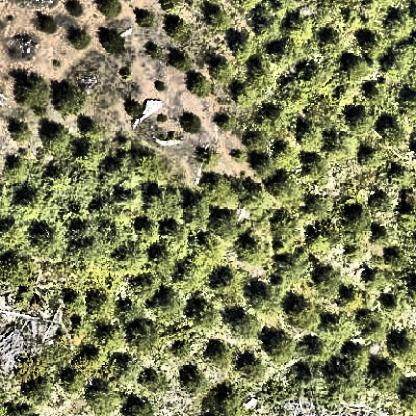tree-top: (282, 63, 336, 116), (111, 148, 164, 186), (147, 188, 188, 227), (1, 255, 41, 294), (335, 203, 374, 242), (174, 360, 214, 398), (5, 153, 48, 188), (83, 381, 124, 415), (190, 238, 228, 274), (73, 224, 109, 261), (15, 74, 51, 110), (274, 171, 309, 208), (35, 225, 70, 262), (26, 372, 60, 410), (55, 83, 91, 118), (341, 343, 375, 378), (287, 298, 322, 331), (219, 265, 252, 300), (209, 389, 253, 415), (265, 331, 298, 365), (239, 237, 274, 269), (385, 58, 416, 94), (297, 124, 331, 156), (128, 319, 162, 351), (279, 253, 311, 287), (305, 155, 336, 190), (86, 292, 118, 325), (270, 141, 303, 173), (121, 245, 154, 277), (1, 220, 32, 254), (297, 332, 329, 364), (383, 10, 416, 41), (375, 366, 408, 397), (42, 123, 72, 157), (232, 79, 264, 110), (238, 352, 269, 384), (201, 172, 232, 203), (319, 28, 349, 60), (188, 302, 226, 327), (286, 12, 316, 43), (45, 167, 76, 197), (112, 186, 146, 213), (151, 42, 187, 67), (96, 325, 127, 354), (384, 251, 415, 280), (178, 109, 206, 141), (254, 286, 282, 318), (232, 30, 260, 61), (73, 139, 105, 166), (116, 357, 145, 386), (349, 107, 377, 137), (307, 193, 337, 221), (298, 365, 328, 393), (261, 107, 292, 134), (393, 327, 416, 363), (257, 16, 286, 44), (253, 56, 279, 87), (246, 127, 274, 155), (103, 28, 129, 58), (319, 269, 345, 299), (385, 117, 410, 148), (166, 17, 194, 44), (101, 28, 128, 56), (205, 8, 232, 36), (212, 57, 239, 85), (142, 371, 170, 398), (363, 1, 395, 24), (326, 313, 353, 340), (209, 341, 235, 369), (347, 56, 373, 82), (188, 71, 214, 97), (81, 346, 107, 372), (235, 312, 260, 339), (64, 369, 88, 396), (68, 28, 93, 53), (9, 120, 34, 145), (81, 118, 108, 141), (362, 146, 384, 174), (181, 111, 205, 136), (139, 220, 163, 245), (362, 34, 383, 62), (2, 183, 21, 213), (69, 4, 90, 30), (396, 205, 416, 231), (129, 397, 156, 416), (145, 42, 168, 64), (370, 266, 392, 289), (137, 10, 159, 32), (171, 50, 194, 71), (400, 384, 416, 413), (123, 97, 145, 118), (41, 14, 62, 35), (99, 1, 123, 18), (370, 86, 389, 107), (66, 1, 84, 18), (163, 1, 183, 15), (240, 2, 262, 14)
